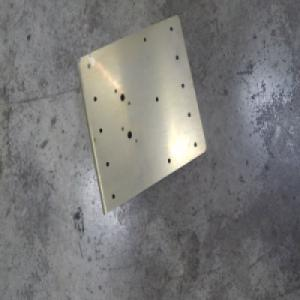MetalSheet: (74, 12, 206, 218)
